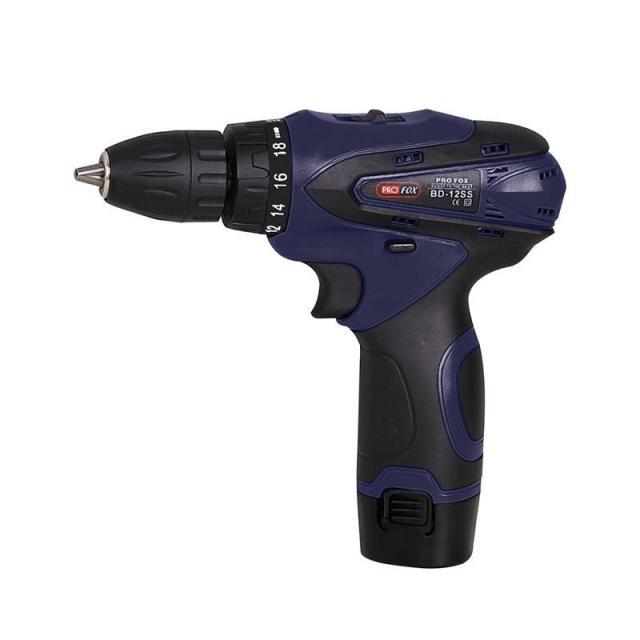drill: (74, 109, 567, 569)
